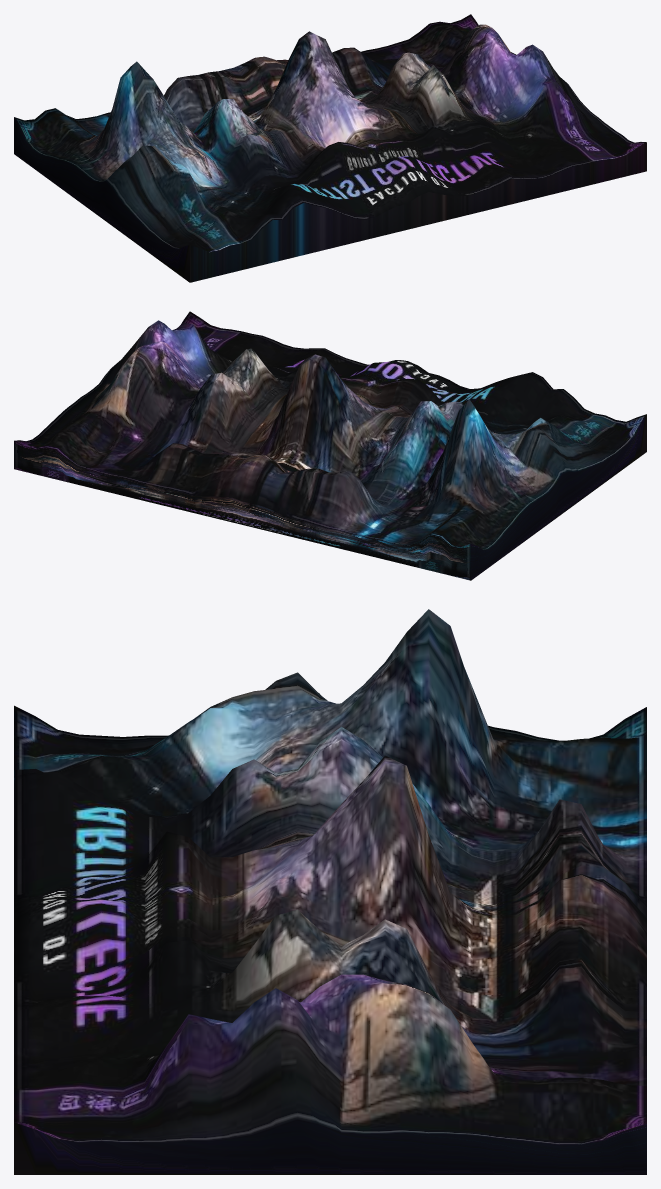
File: FACTION_07_Artist_Collective.glb
3 views of the same model, one above another, from view 1: azimuth 30°, elevation 25°; view 2: azimuth 150°, elevation 25°; view 3: azimuth 270°, elevation 25° (orthographic). The views are drawn at different scales.
Visible parts, largest first — view 1: FACTION_07_Artist_Collective; view 2: FACTION_07_Artist_Collective; view 3: FACTION_07_Artist_Collective.
Boxes of the visible parts, <box> form: FACTION_07_Artist_Collective: <box>14,14,646,282</box>; FACTION_07_Artist_Collective: <box>14,311,646,580</box>; FACTION_07_Artist_Collective: <box>14,609,646,1174</box>.
Size of the model in its own units: 2 by 0.51 by 1.33.
Materials: 1 (1 with a texture image).
